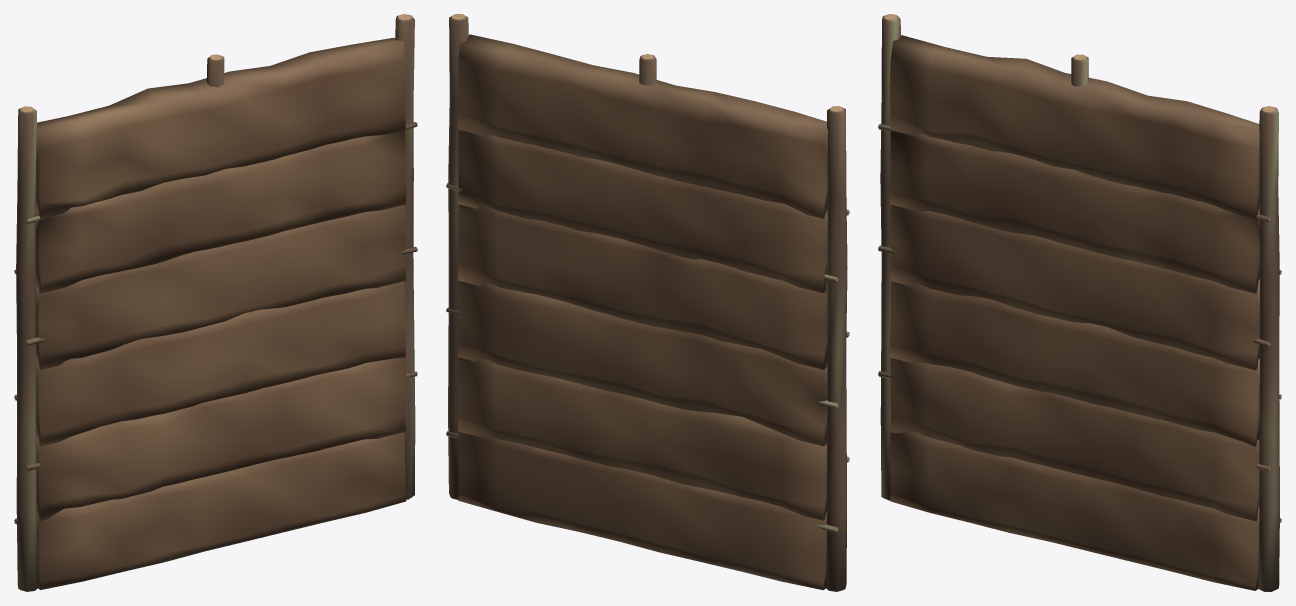
The model's file is wall.glb.
3 views of the same model, side by side, from view 1: azimuth 30°, elevation 25°; view 2: azimuth 150°, elevation 25°; view 3: azimuth 330°, elevation 25° (orthographic).
Parts seen in each view (by area): view 1: Part_14, Part_11, Part_13, Part_12, Part_10, Part_09, Part_00, Part_02, Part_01; view 2: Part_14, Part_12, Part_11, Part_10, Part_13, Part_09, Part_00, Part_02, Part_01; view 3: Part_14, Part_11, Part_13, Part_12, Part_10, Part_09, Part_02, Part_00, Part_01.
Part boxes in pixels (bbox=[...]): Part_14: bbox=[36, 37, 405, 218]; Part_11: bbox=[36, 281, 405, 446]; Part_13: bbox=[36, 130, 406, 293]; Part_12: bbox=[36, 204, 405, 369]; Part_10: bbox=[36, 357, 406, 520]; Part_09: bbox=[36, 432, 406, 589]; Part_00: bbox=[16, 106, 37, 591]; Part_02: bbox=[395, 14, 415, 499]; Part_01: bbox=[206, 54, 224, 87]; Part_14: bbox=[458, 34, 827, 218]; Part_12: bbox=[458, 204, 827, 369]; Part_11: bbox=[458, 281, 827, 446]; Part_10: bbox=[458, 357, 826, 520]; Part_13: bbox=[458, 130, 827, 293]; Part_09: bbox=[458, 432, 826, 590]; Part_00: bbox=[826, 106, 847, 591]; Part_02: bbox=[448, 14, 468, 499]; Part_01: bbox=[639, 54, 656, 85]; Part_14: bbox=[889, 35, 1259, 219]; Part_11: bbox=[889, 281, 1259, 446]; Part_13: bbox=[889, 131, 1259, 293]; Part_12: bbox=[890, 205, 1259, 370]; Part_10: bbox=[890, 358, 1259, 521]; Part_09: bbox=[890, 431, 1259, 590]; Part_02: bbox=[1258, 106, 1279, 591]; Part_00: bbox=[880, 14, 900, 500]; Part_01: bbox=[1071, 54, 1088, 86].
Size of the model in its own units: 2.01 by 2.35 by 0.1768.
